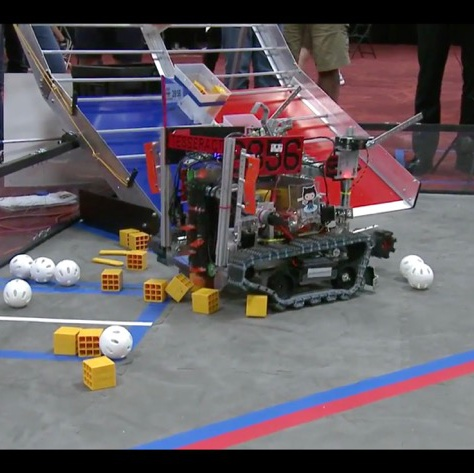robot: (143, 91, 424, 313)
